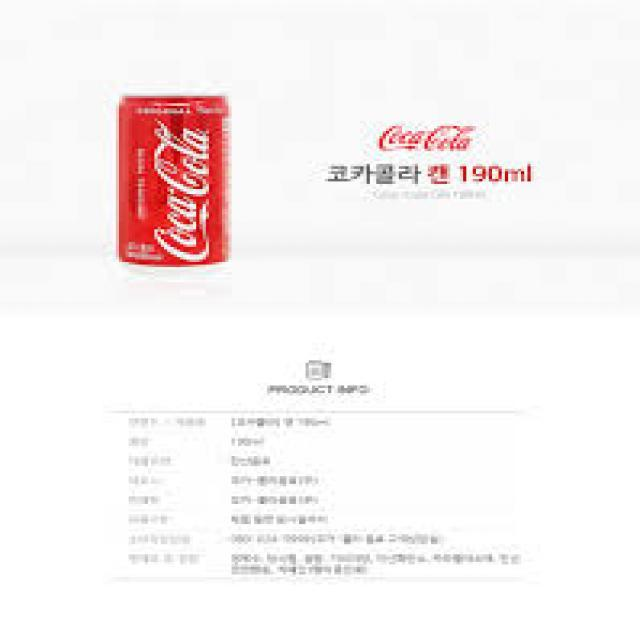coca-cola: (111, 86, 237, 274)
